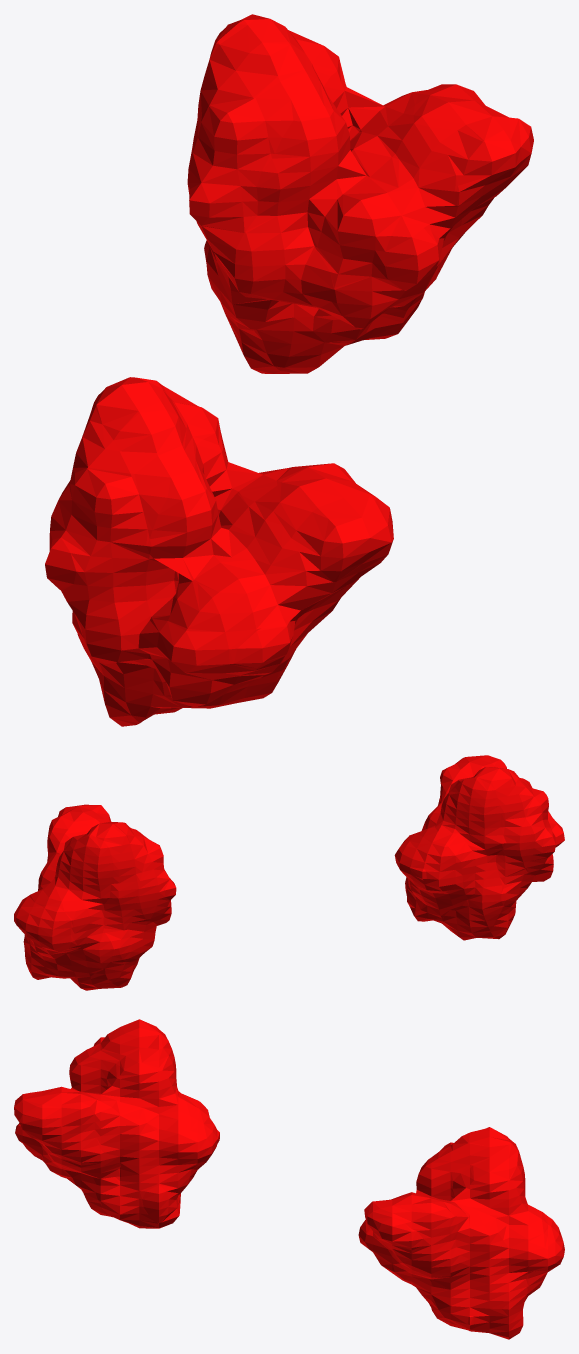
File: Guanine_nucleotide_binding_pro_2_coarse.dae
3 renders of one model, top to bottom at view 1: azimuth 30°, elevation 25°; view 2: azimuth 150°, elevation 25°; view 3: azimuth 270°, elevation 25°, orthographic. The views are drawn at different scales.
Visible parts, largest first — view 1: Guanine_nucleotide_binding_pro_2; view 2: Guanine_nucleotide_binding_pro_2; view 3: Guanine_nucleotide_binding_pro_2.
Boxes of the visible parts, x1,y1,x2,y2 form: Guanine_nucleotide_binding_pro_2: (45,14,533,726); Guanine_nucleotide_binding_pro_2: (14,755,564,990); Guanine_nucleotide_binding_pro_2: (14,1019,564,1339).
Bounding box in the file's own units: 154 × 71.84 × 185.
